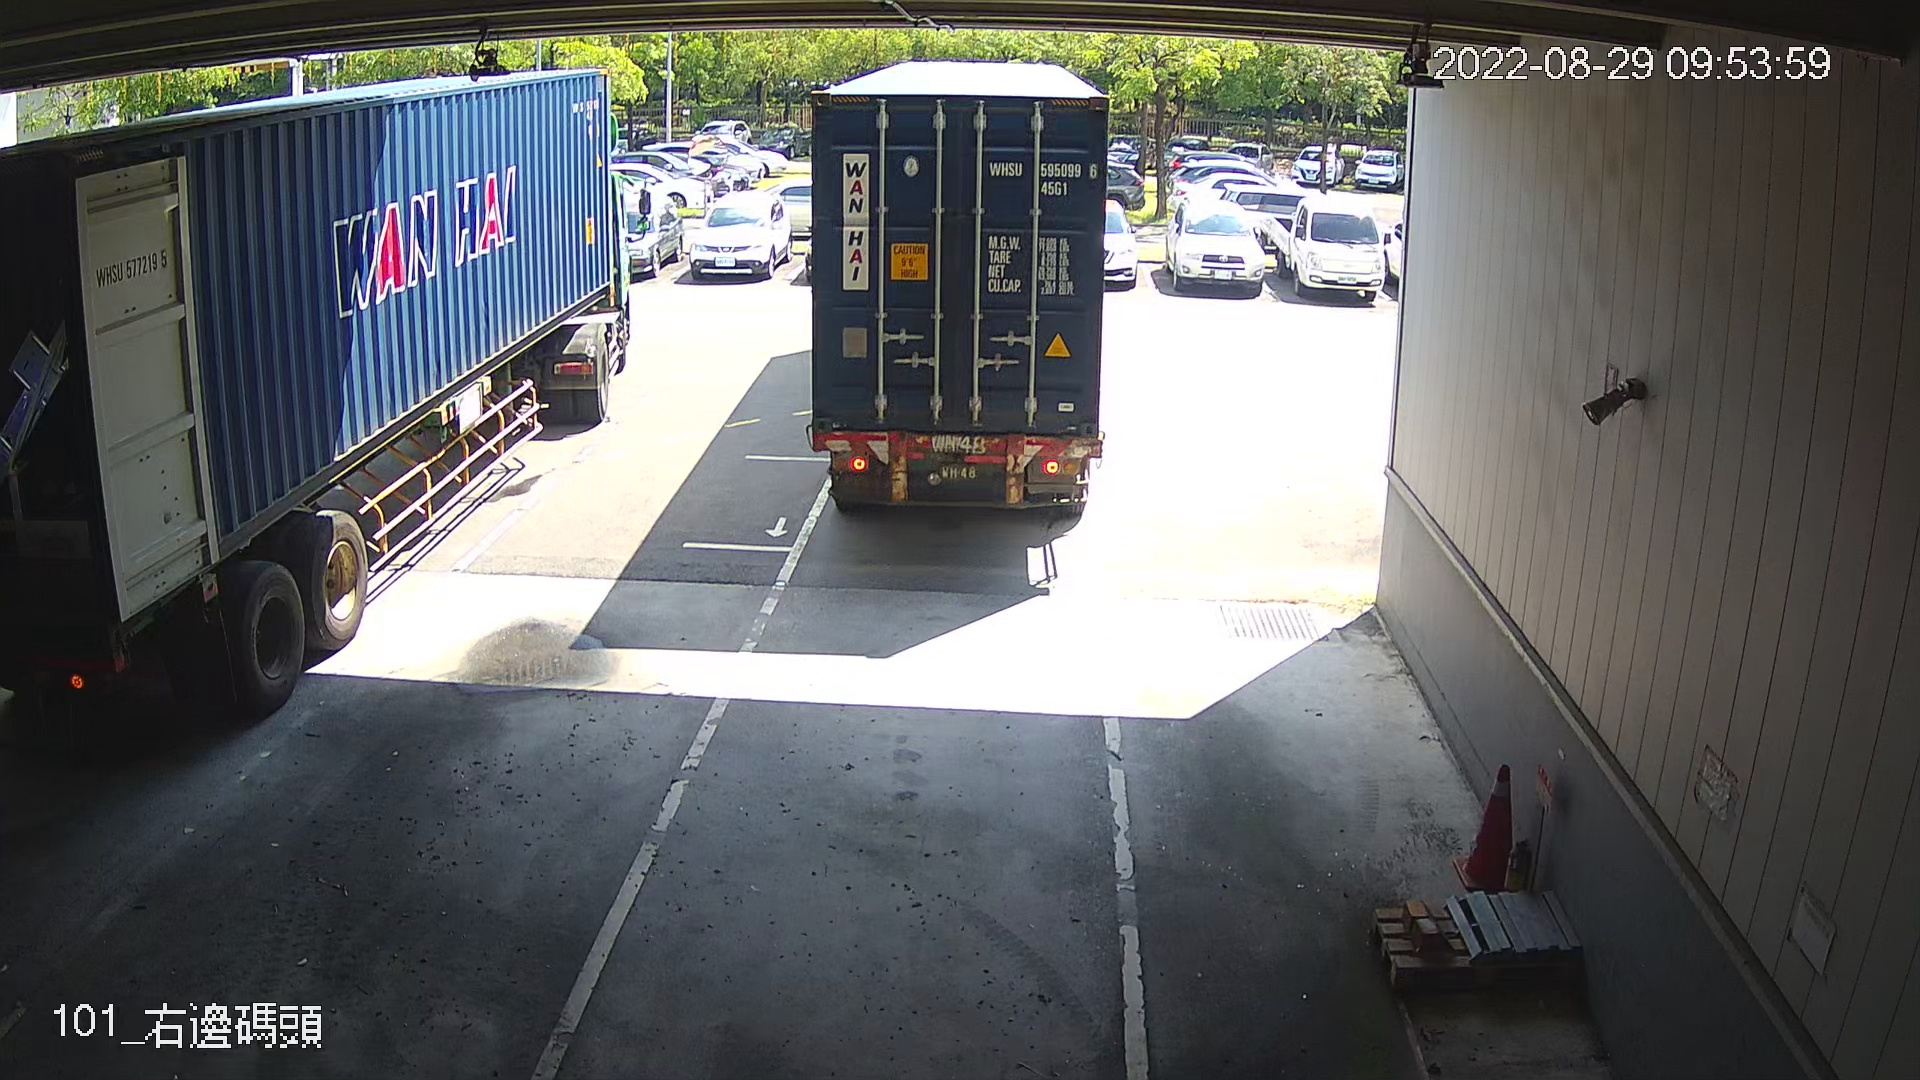container: (982, 156, 1101, 202)
